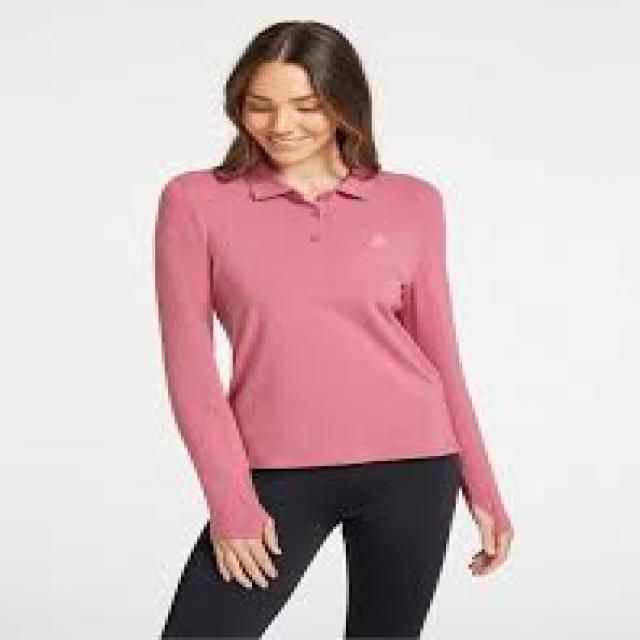plain: (153, 161, 485, 461)
